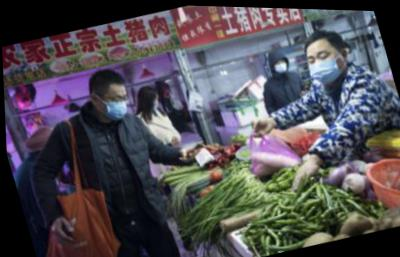OK: (304, 43, 344, 85), (99, 87, 134, 124), (272, 55, 290, 72)
WRONG: (150, 93, 161, 110)
